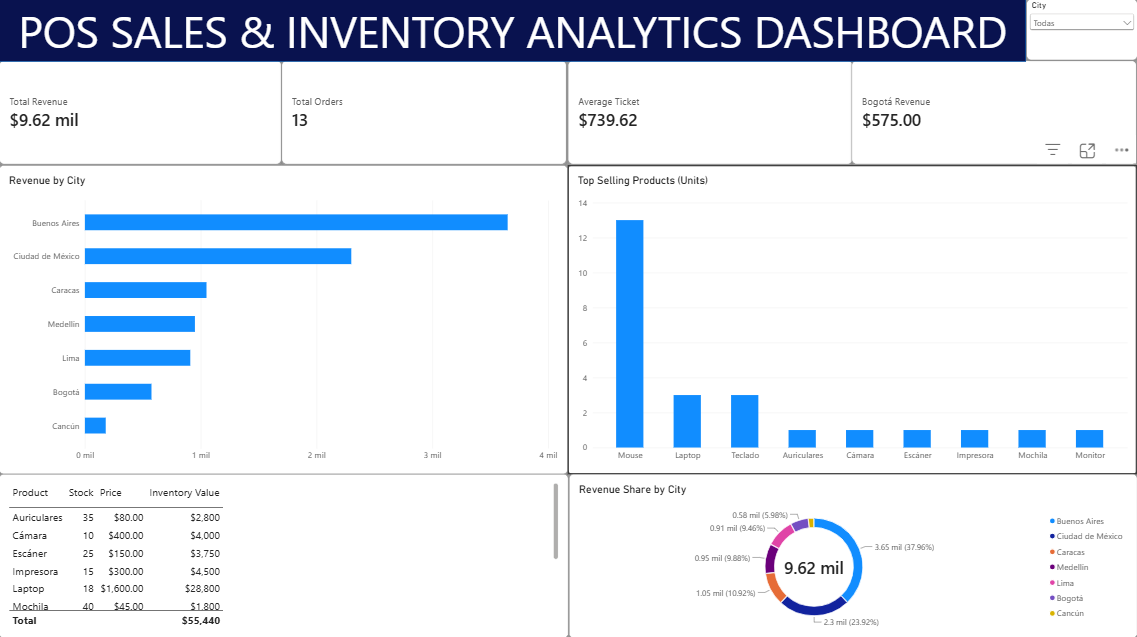

The page's visual inventory and layout, read from the dashboard file:
{"tool":"powerbi","page":{"name":"Página 1","canvas":[1920,1080],"ordinal":0},"visuals":[{"type":"cardVisual","title":"Total Revenue","fields":{"Data":["Clientes.Total Ingresos"]},"box":[0,103.5,477.1,176.6],"z":0},{"type":"cardVisual","title":"Total Orders","fields":{"Data":["Clientes.Cantidad Pedidos"]},"box":[477.1,103.5,481.1,176.6],"z":1000},{"type":"cardVisual","title":"Average Ticket","fields":{"Data":["Clientes.Ticket Promedio"]},"box":[958.2,103.5,481.1,176.6],"z":2000},{"type":"cardVisual","title":"Bogotá Revenue","fields":{"Data":["Clientes.Ventas Bogota"]},"box":[1437.3,103.5,483.1,176.6],"z":3000},{"type":"clusteredBarChart","title":"Revenue by City","fields":{"Category":["Clientes.ciudad"],"Y":["Clientes.Total Ingresos"]},"box":[0,279.9,959.2,520.8],"z":4000},{"type":"clusteredColumnChart","title":"Top Selling Products (Units)","fields":{"Category":["Productos.nombre"],"Y":["Sum(DetallesVentas.cantidad)"]},"box":[959.2,279.9,961.2,520.8],"z":5000},{"type":"slicer","fields":{"Values":["Clientes.ciudad"]},"box":[1731.6,0,188.8,103.5],"z":6000},{"type":"shape","box":[0,0,1731.6,105.6],"z":7000},{"type":"tableEx","fields":{"Values":["Productos.nombre","Productos.stock","Productos.precio","Clientes.Inventory Value"]},"box":[0,801.9,960.2,278.1],"z":8000},{"type":"donutChart","title":"Revenue Share by City","fields":{"Category":["Clientes.ciudad"],"Y":["Clientes.Total Ingresos"]},"box":[960.2,801.9,960.2,278.1],"z":9000}]}

Visuals, with their boxes in screenshot pixels (x1, y1, x2, y2), scaled from the page's 1920x1080 canvas onto the 1137x637 screenshot:
"Total Revenue" cardVisual: (0,61,283,165)
"Total Orders" cardVisual: (283,61,567,165)
"Average Ticket" cardVisual: (567,61,852,165)
"Bogotá Revenue" cardVisual: (851,61,1136,165)
"Revenue by City" clusteredBarChart: (0,165,568,472)
"Top Selling Products (Units)" clusteredColumnChart: (568,165,1136,472)
slicer - Clientes.ciudad: (1025,0,1136,61)
shape: (0,0,1025,62)
tableEx - Productos.nombre x Productos.stock: (0,473,569,636)
"Revenue Share by City" donutChart: (569,473,1136,636)
